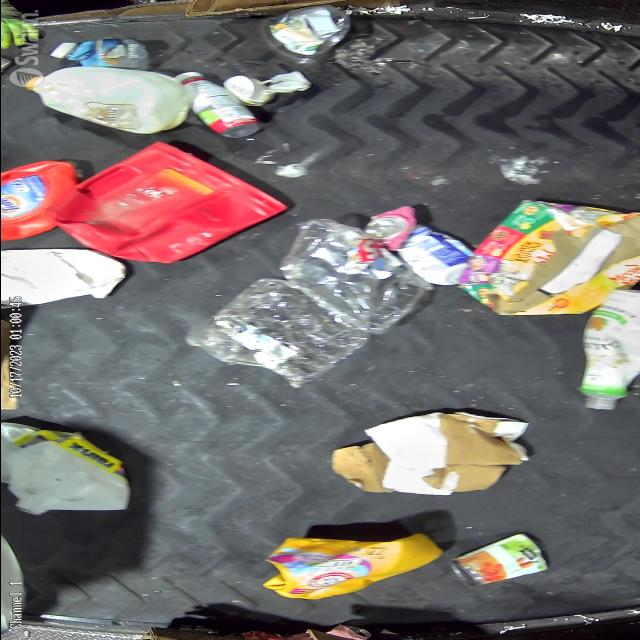can: (445, 533, 551, 589), (360, 206, 421, 250)
milk_jug: (5, 427, 133, 514), (30, 66, 187, 134), (0, 249, 126, 310)
non_white_jug: (51, 142, 287, 264), (260, 532, 444, 600), (1, 159, 80, 243)
plastic_bottle: (268, 1, 350, 61)
